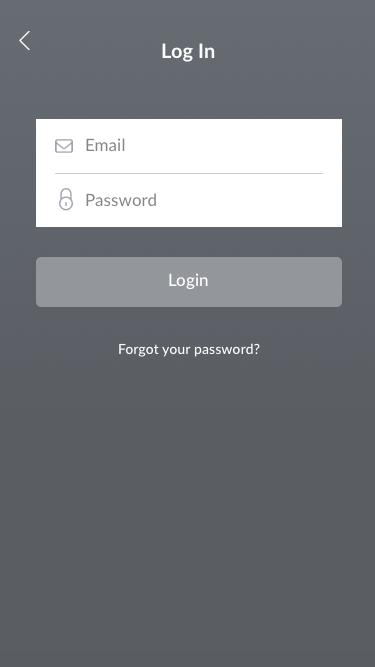EditText: (36, 120, 342, 174), (36, 174, 342, 228)
Icon: (59, 188, 75, 212), (19, 31, 33, 52), (55, 139, 74, 154)
Text: (118, 343, 260, 358), (161, 43, 216, 64), (86, 193, 158, 208), (86, 138, 126, 153)
TextButton: (37, 257, 342, 308)
